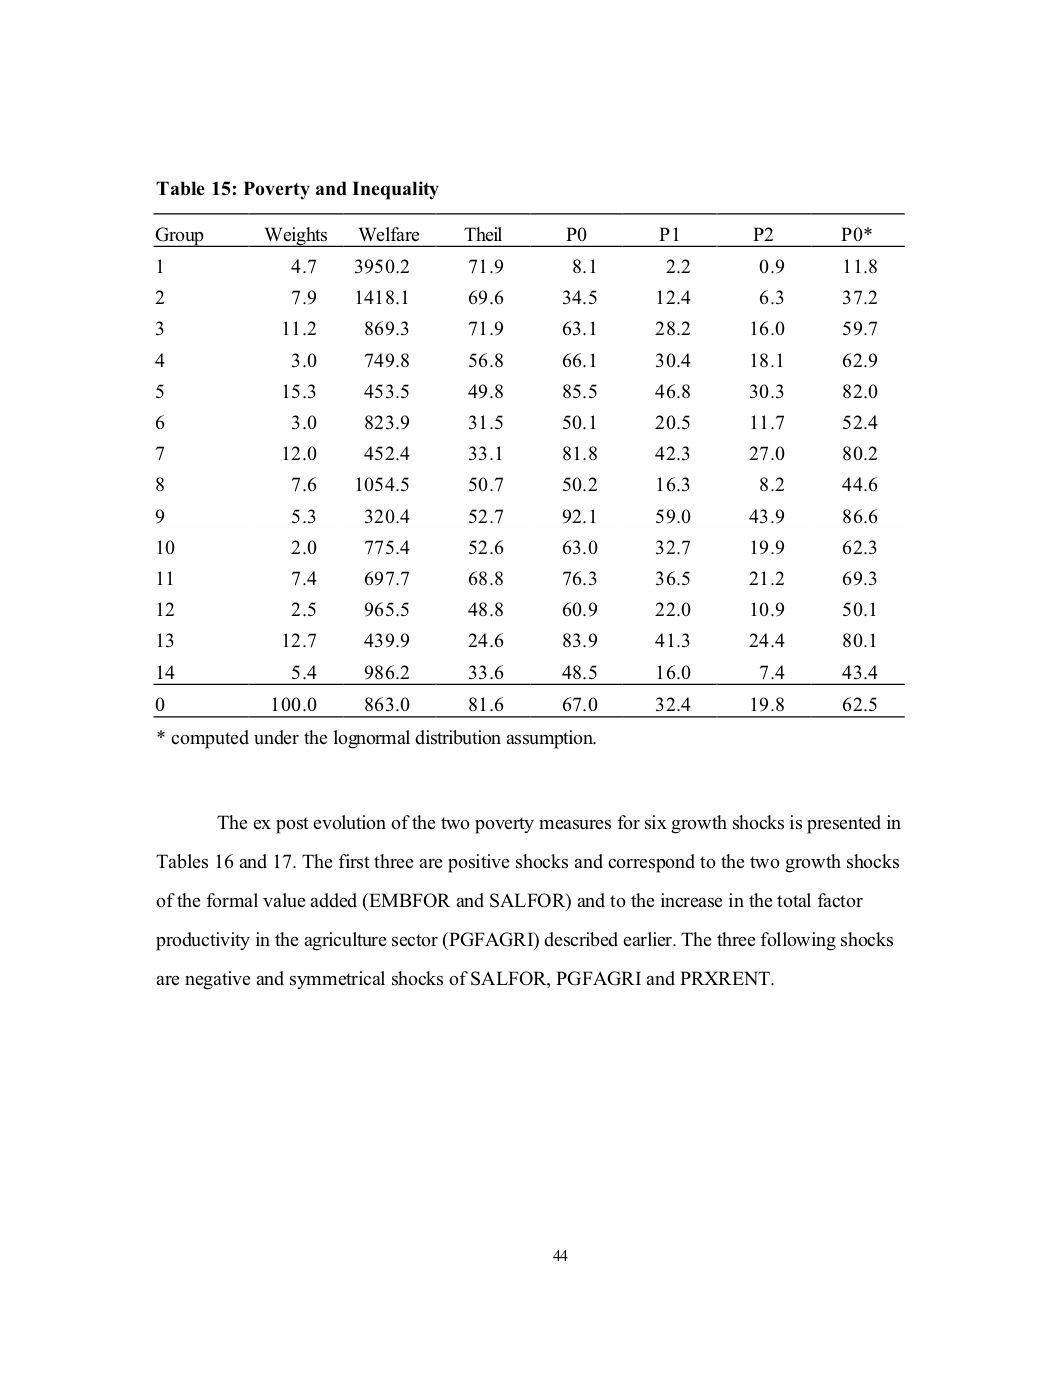Table: (153, 213, 904, 717)
